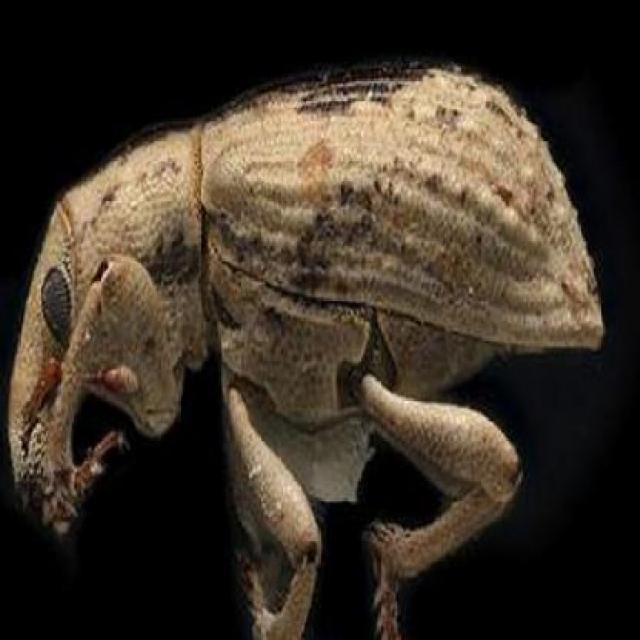rice-bug: (9, 66, 608, 602)
